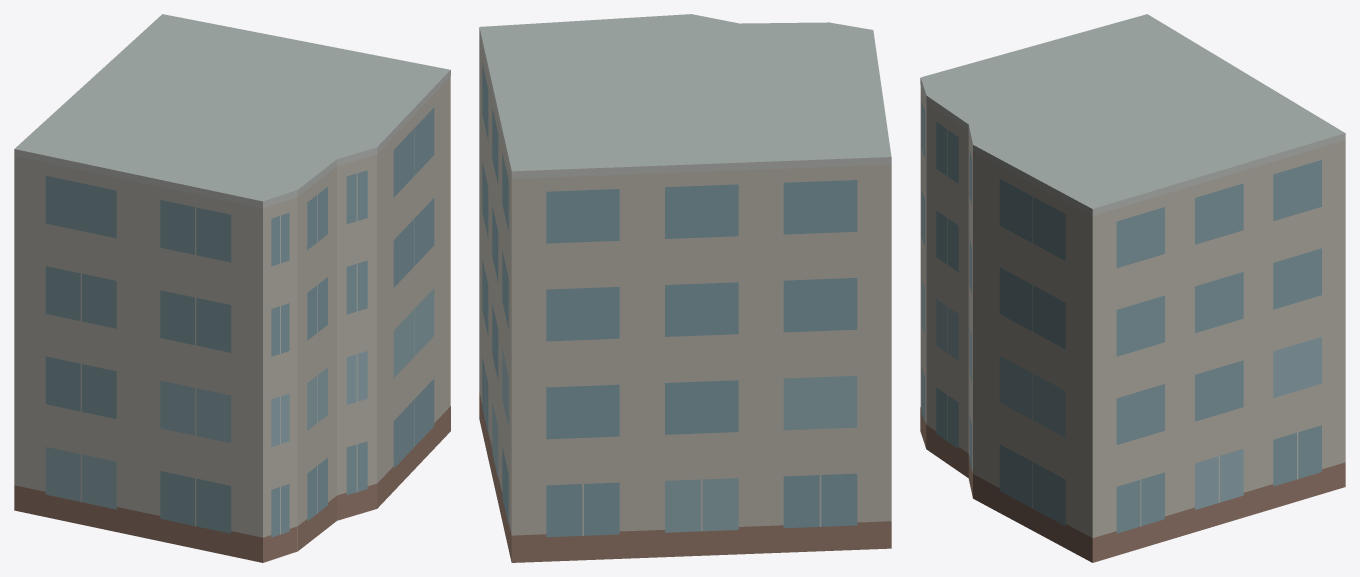
The model's file is survey-upis-32912947.glb.
The picture shows the model from 3 angles, left to right: view 1: azimuth 30°, elevation 25°; view 2: azimuth 150°, elevation 25°; view 3: azimuth 270°, elevation 25°; orthographic projection. The views are drawn at different scales.
Parts seen in each view (by area): view 1: survey-upis-32912947.tmp; view 2: survey-upis-32912947.tmp; view 3: survey-upis-32912947.tmp.
Part boxes in pixels (x1,y1,x2,y2): survey-upis-32912947.tmp: [14, 14, 450, 562]; survey-upis-32912947.tmp: [479, 14, 891, 562]; survey-upis-32912947.tmp: [920, 14, 1345, 562].
Bounding box in the file's own units: 15.03 × 12.7 × 13.84.
